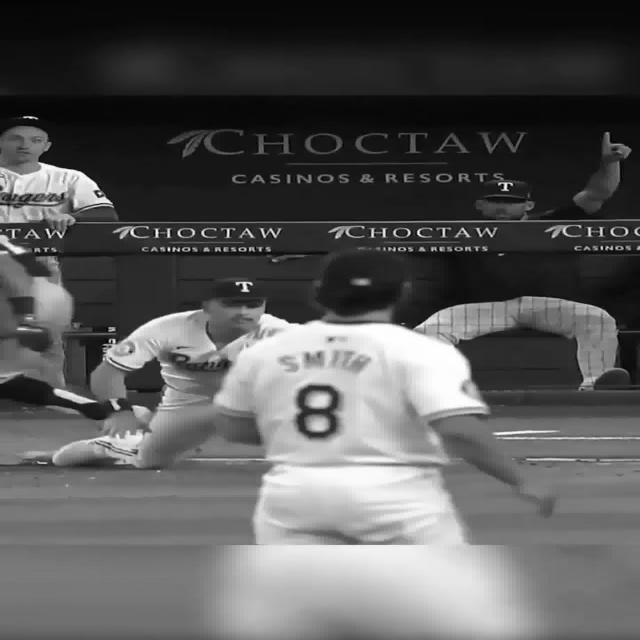shoe: (51, 429, 146, 467)
